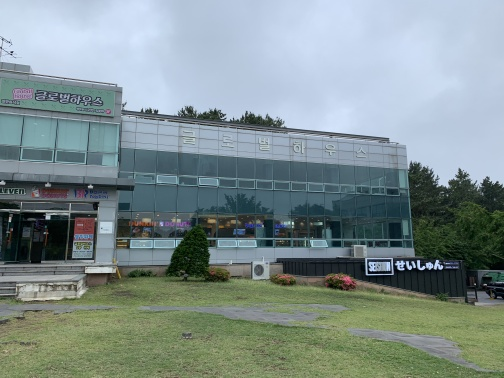Global House: (1, 59, 474, 302)
